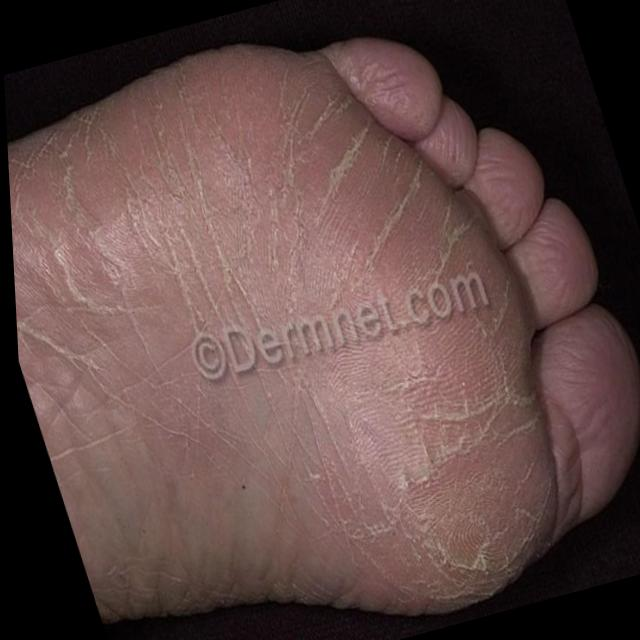liquenificacion 1: (8, 60, 556, 635)
